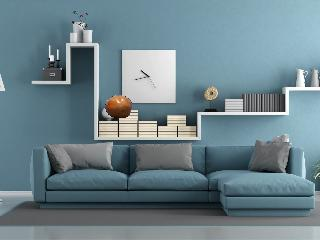potato: (103, 92, 134, 120)
